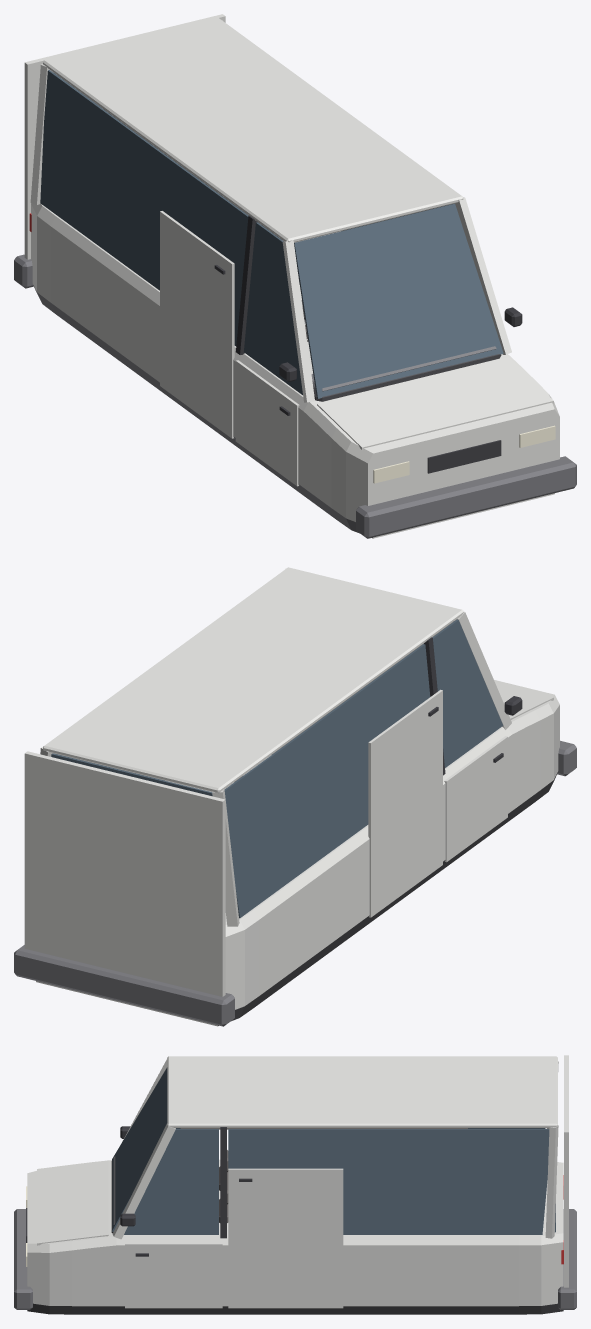
The model's file is minibus.glb.
3 renders of one model, top to bottom at view 1: azimuth 30°, elevation 25°; view 2: azimuth 150°, elevation 25°; view 3: azimuth 270°, elevation 25°, orthographic. The views are drawn at different scales.
Parts seen in each view (by area): view 1: roof, body, win_front, win_rl, door_rl, bonnet, bumper_f, win_fl, door_fl, boot, pillar_al, pillar_ar (+5 smaller); view 2: roof, boot, win_rl, body, door_rl, bumper_r, win_fl, door_fl, pillar_al, pillar_cl, bonnet, win_rear (+1 smaller); view 3: body, roof, win_rr, door_rr, win_fr, door_fr, bonnet, win_front, bumper_f, pillar_ar, boot, bumper_r (+2 smaller).
Part boxes in pixels (x1=…): roof: x1=43, y1=18, x2=463, y2=242; body: x1=31, y1=203, x2=559, y2=538; win_front: x1=294, y1=203, x2=503, y2=398; win_rl: x1=40, y1=70, x2=248, y2=346; door_rl: x1=160, y1=211, x2=234, y2=438; bonnet: x1=317, y1=357, x2=553, y2=450; bumper_f: x1=356, y1=456, x2=576, y2=538; win_fl: x1=244, y1=222, x2=302, y2=394; door_fl: x1=235, y1=360, x2=299, y2=486; boot: x1=24, y1=14, x2=225, y2=259; pillar_al: x1=282, y1=240, x2=314, y2=402; pillar_ar: x1=455, y1=197, x2=511, y2=354; roof: x1=43, y1=567, x2=463, y2=792; boot: x1=24, y1=751, x2=225, y2=996; win_rl: x1=224, y1=644, x2=430, y2=918; body: x1=36, y1=680, x2=559, y2=1026; door_rl: x1=368, y1=689, x2=442, y2=917; bumper_r: x1=14, y1=945, x2=234, y2=1026; win_fl: x1=432, y1=619, x2=503, y2=767; door_fl: x1=444, y1=736, x2=507, y2=862; pillar_al: x1=455, y1=611, x2=511, y2=729; pillar_cl: x1=212, y1=789, x2=239, y2=926; bonnet: x1=495, y1=683, x2=553, y2=719; win_rear: x1=51, y1=753, x2=212, y2=796; body: x1=27, y1=1159, x2=563, y2=1314; roof: x1=167, y1=1056, x2=557, y2=1127; win_rr: x1=228, y1=1129, x2=549, y2=1234; door_rr: x1=228, y1=1168, x2=343, y2=1308; win_fr: x1=124, y1=1129, x2=218, y2=1234; door_fr: x1=125, y1=1243, x2=222, y2=1308; bonnet: x1=37, y1=1160, x2=108, y2=1245; win_front: x1=112, y1=1067, x2=167, y2=1231; bumper_f: x1=14, y1=1209, x2=32, y2=1309; pillar_ar: x1=112, y1=1124, x2=175, y2=1239; boot: x1=564, y1=1055, x2=568, y2=1287; bumper_r: x1=558, y1=1209, x2=576, y2=1309.
Bounding box in the file's own units: 2.26 × 2.14 × 5.88.
